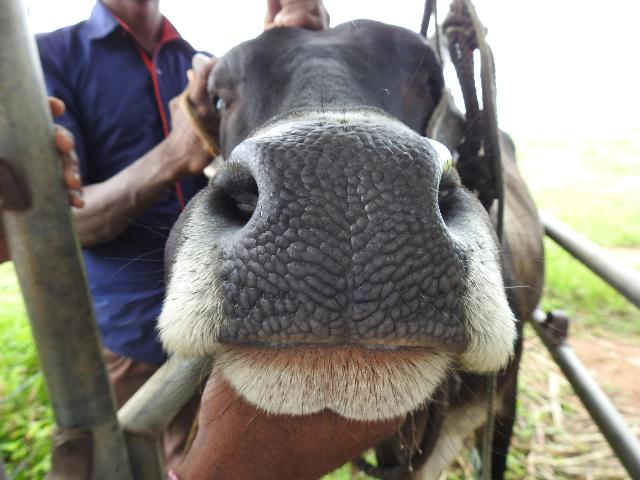Muzzle: (222, 132, 453, 338)
